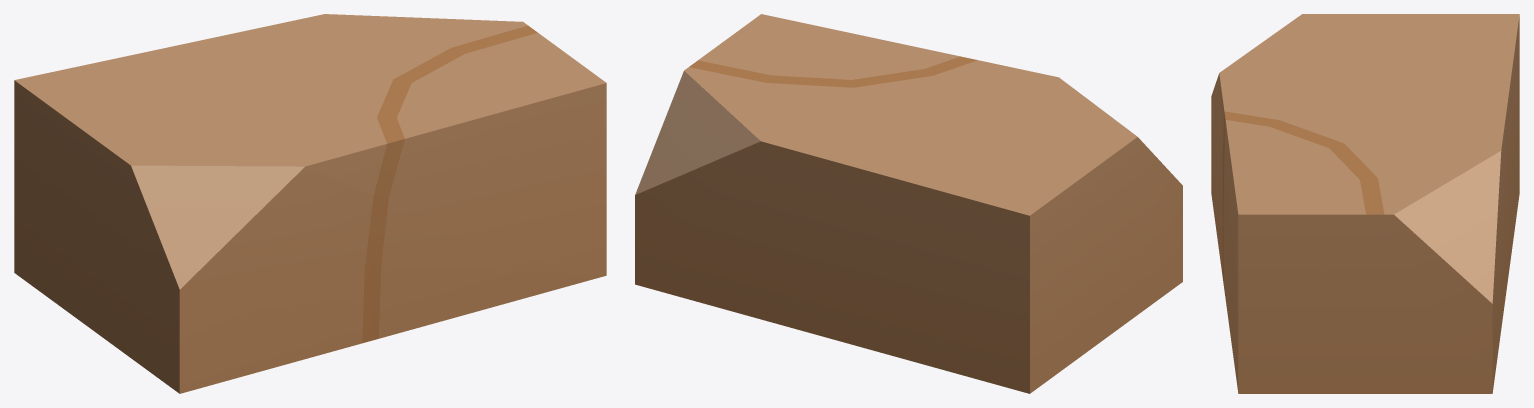
The model's file is ancient-stone.glb.
3 views of the same model, side by side, from view 1: azimuth 30°, elevation 25°; view 2: azimuth 150°, elevation 25°; view 3: azimuth 270°, elevation 25° (orthographic). The views are drawn at different scales.
Visible parts, largest first — view 1: ancient stone; view 2: ancient stone; view 3: ancient stone.
Part boxes in pixels (bbox=[...]): ancient stone: bbox=[14, 14, 606, 393]; ancient stone: bbox=[635, 14, 1182, 393]; ancient stone: bbox=[1211, 14, 1519, 393].
Size of the model in its own units: 2.43 by 1.02 by 1.58.
Materials: 1 (1 with a texture image).
